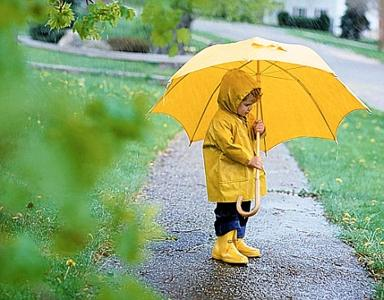person: (202, 70, 267, 266)
